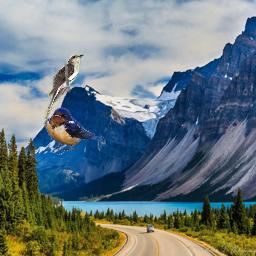Cuckoo: (44, 54, 84, 122)
Swallow: (43, 107, 102, 152)
